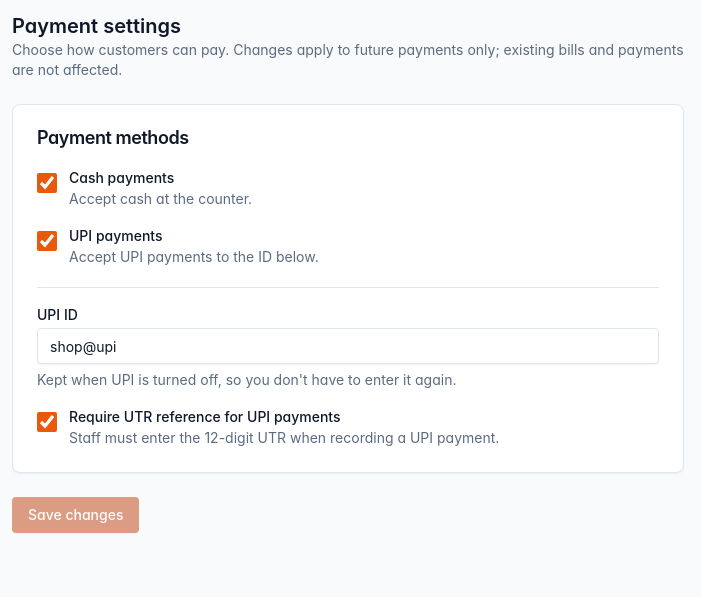
Test case: OrganizationPaymentSettingsPage › Owner (settings.payments.manage) — editable › blocks turning both methods off, explains it, and sends nothing
The image size is (701, 597).
Click the checkbox labelled "Cash payments". click: (47, 183)
box: [37,173,57,193]
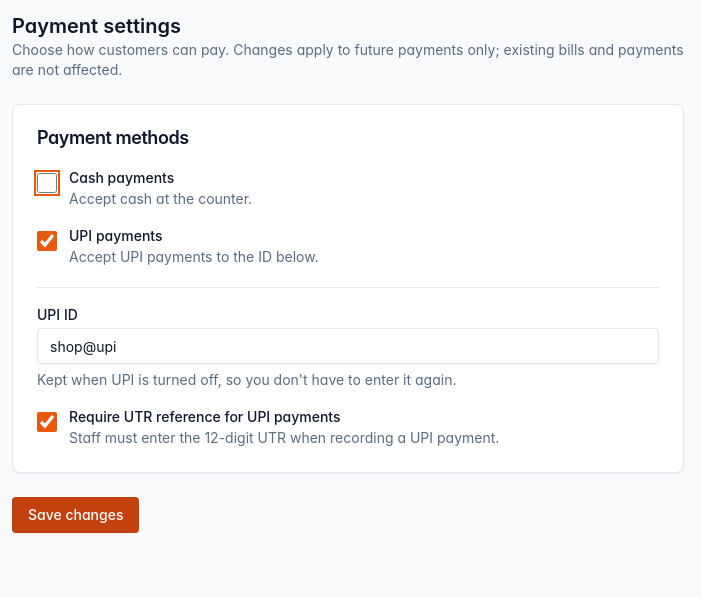
Click the checkbox labelled "UPI payments". click: (47, 241)
box: [37,231,57,251]
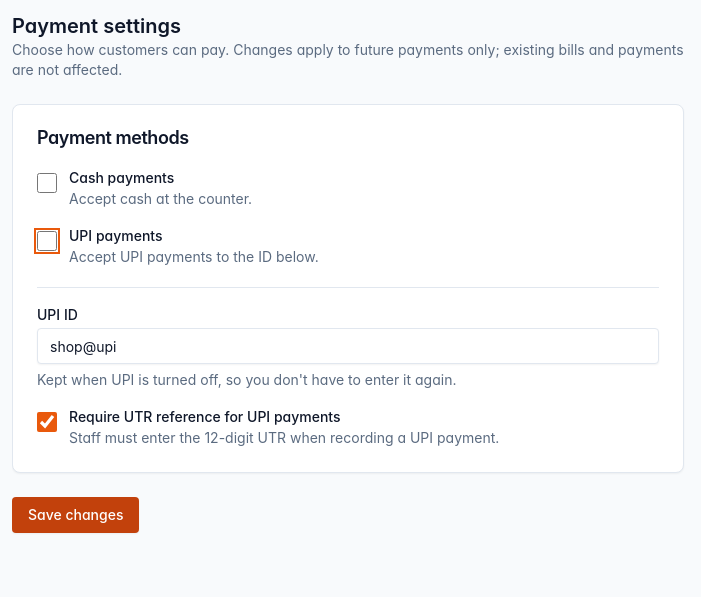
Click the button "Save changes". click: (76, 515)
box: [12,497,140,533]
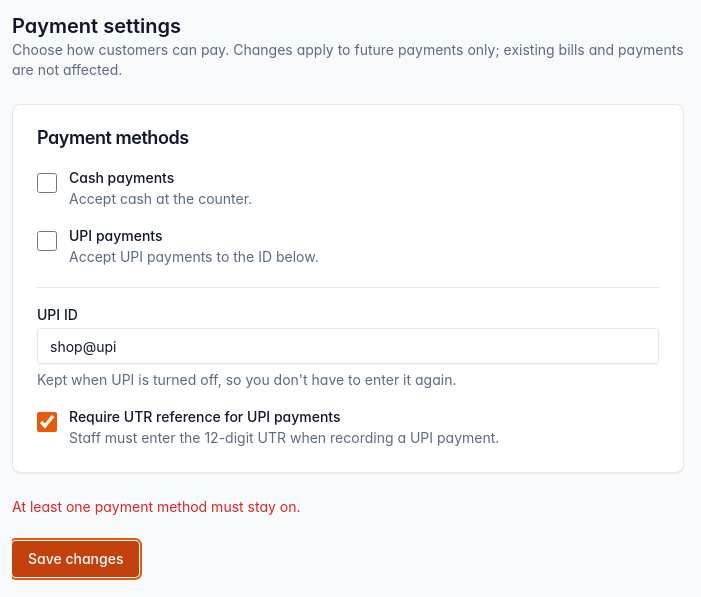
Check: the message shows "At least one payment method", box [12,498,300,515]
